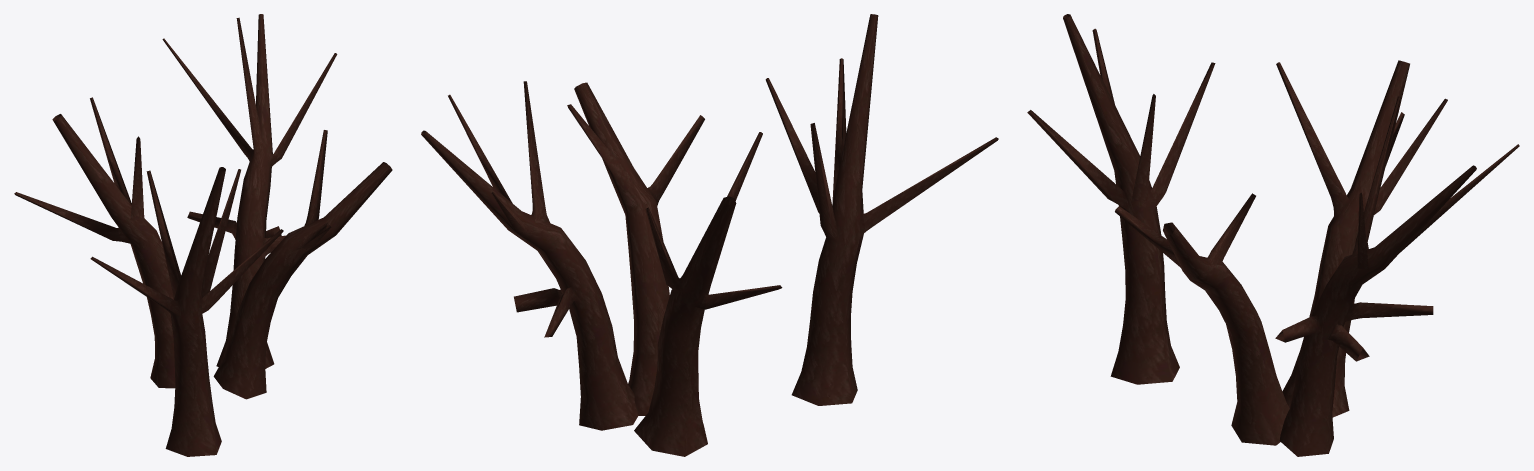
3 views of the same model, side by side, from view 1: azimuth 30°, elevation 25°; view 2: azimuth 150°, elevation 25°; view 3: azimuth 270°, elevation 25° (orthographic). The views are drawn at different scales.
Visible parts, largest first — view 1: SM_GF_SwampTree_03_LOD0; view 2: SM_GF_SwampTree_03_LOD0; view 3: SM_GF_SwampTree_03_LOD0.
Boxes of the visible parts, x1,y1,x2,y2 form: SM_GF_SwampTree_03_LOD0: [14, 14, 392, 456]; SM_GF_SwampTree_03_LOD0: [421, 14, 998, 456]; SM_GF_SwampTree_03_LOD0: [1027, 14, 1519, 456].
Bounding box in the file's own units: 0.8111 × 0.6794 × 0.8243.
